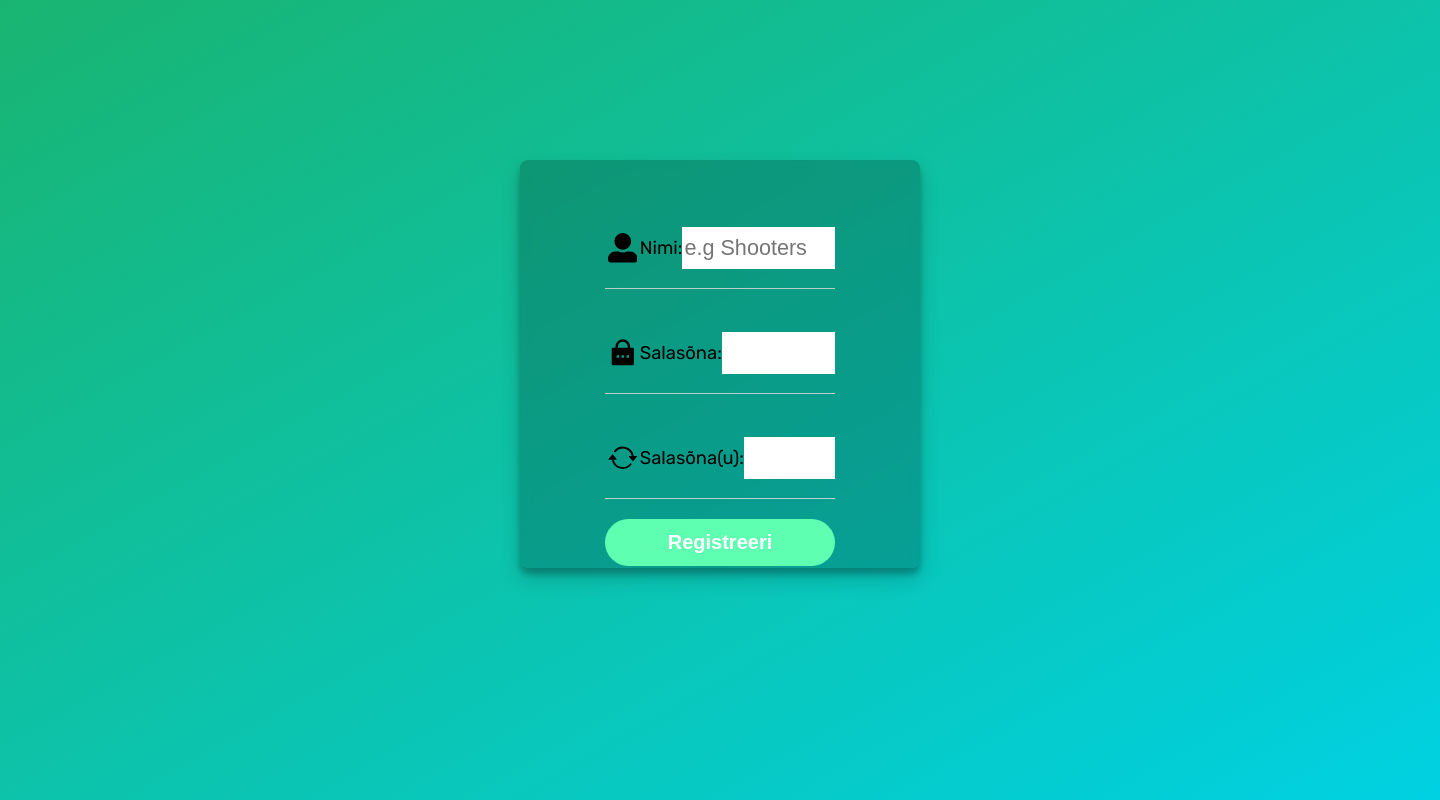
Check that enterprise can register a new account › Checks that register validation errors appear
This screenshot has width=1440, height=800.
Type "Maasikas" into the field named "username" at (759, 248), box [683,227,835,269]
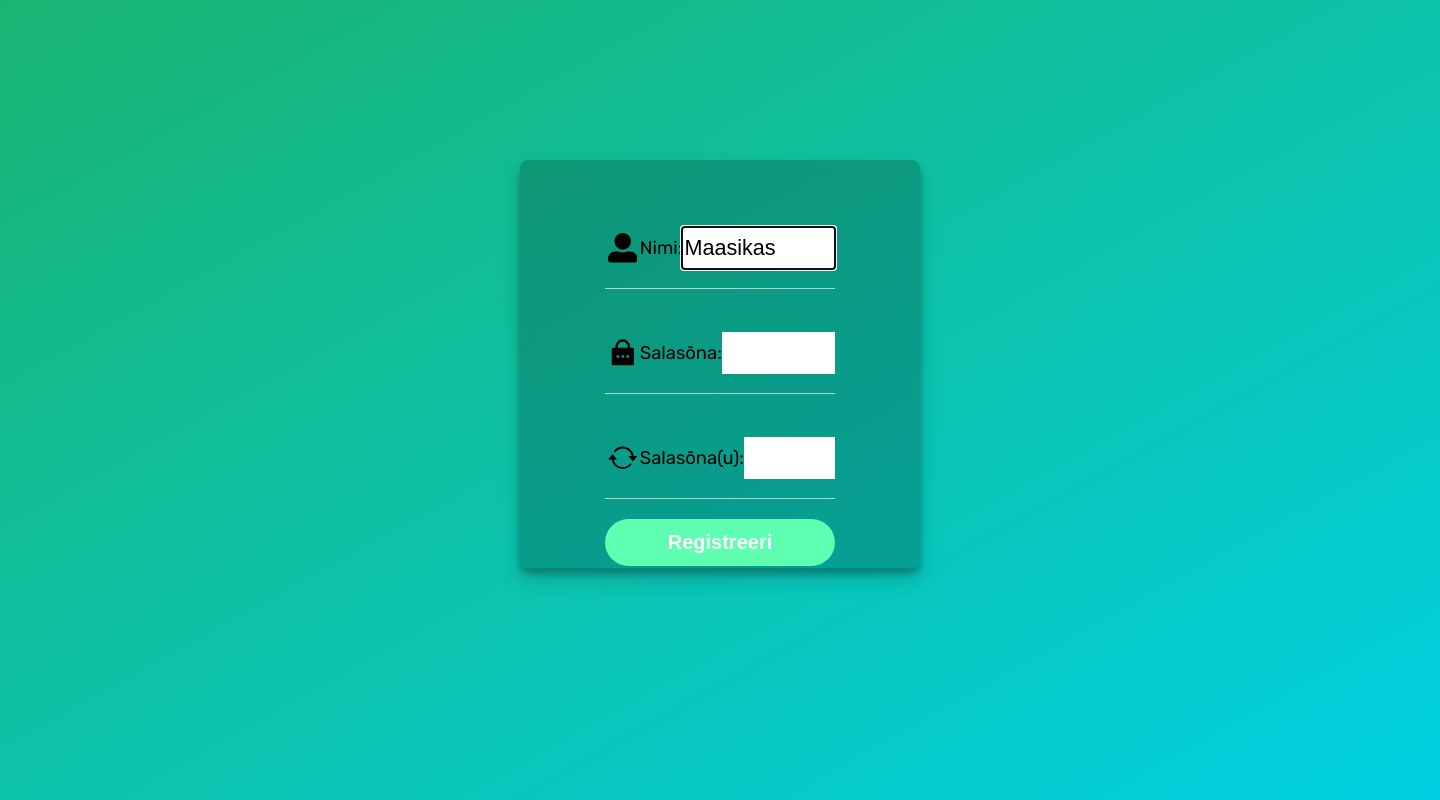
Type "Lollakas!123" into the password field named "password" next to "Salasõna:" at (779, 353), box [722,332,835,374]
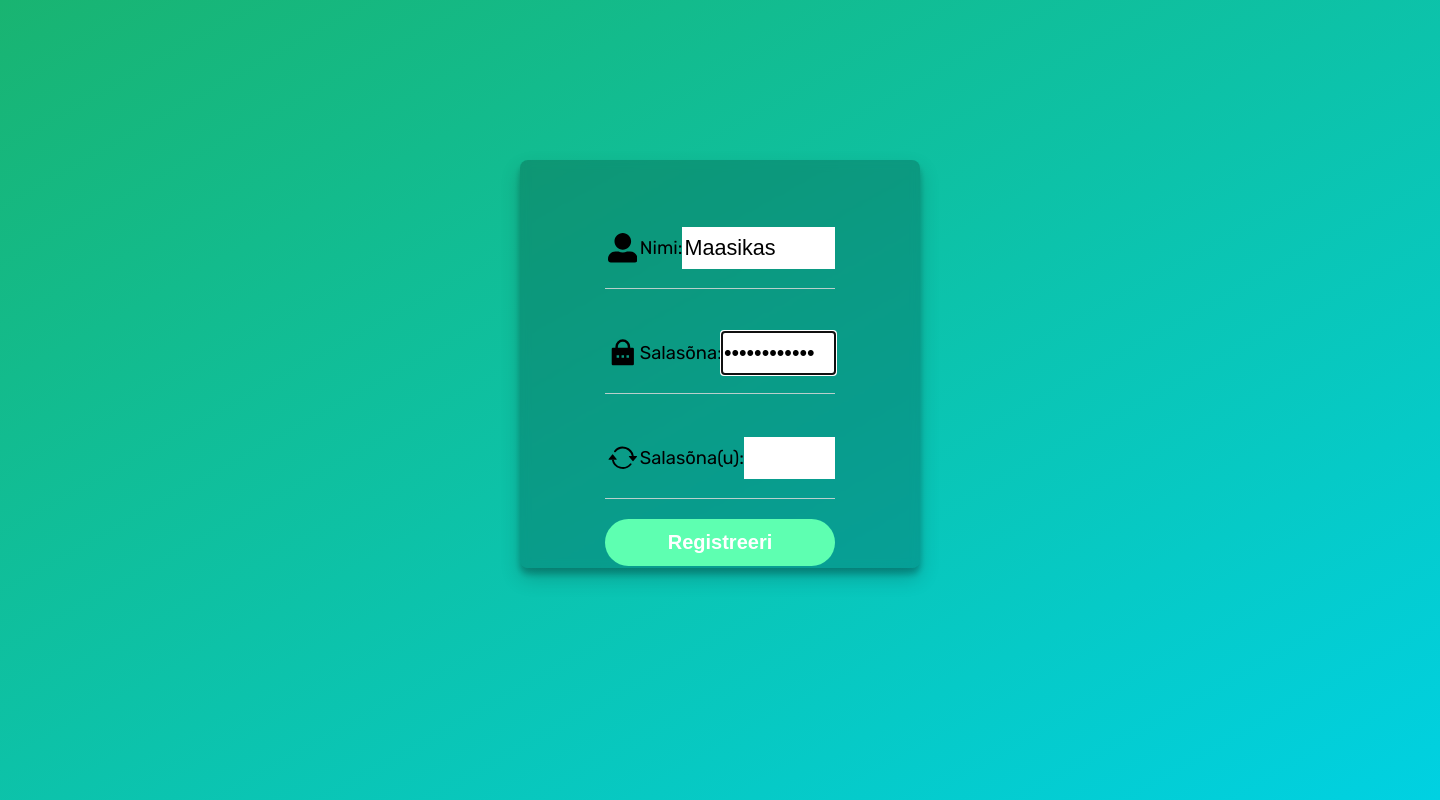
Type "Lollakas" into the password field named "password_repeat" next to "Salasõna(u):" at (790, 458), box [744,437,835,479]
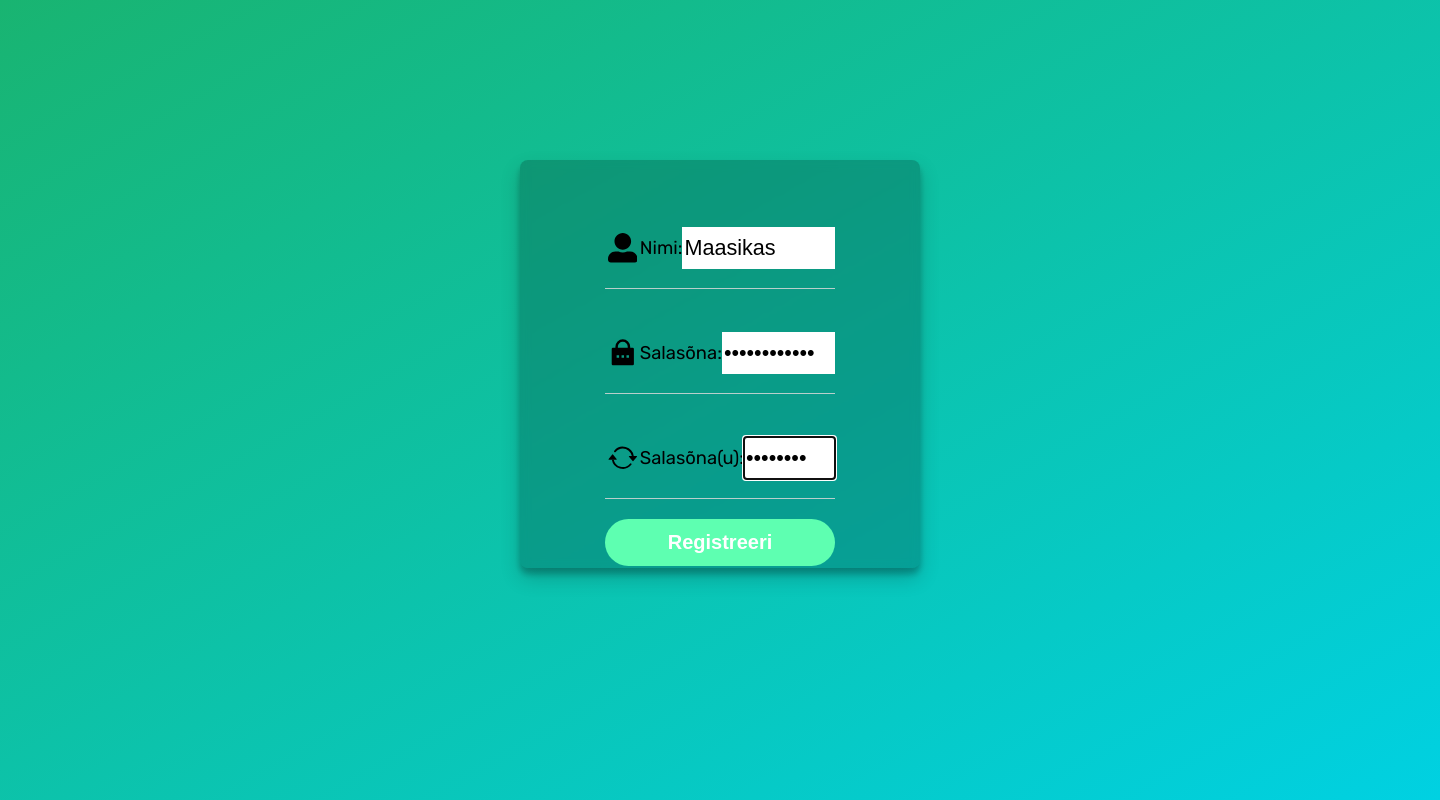
Click the button with id "register" at (720, 543), box [605,519,834,566]
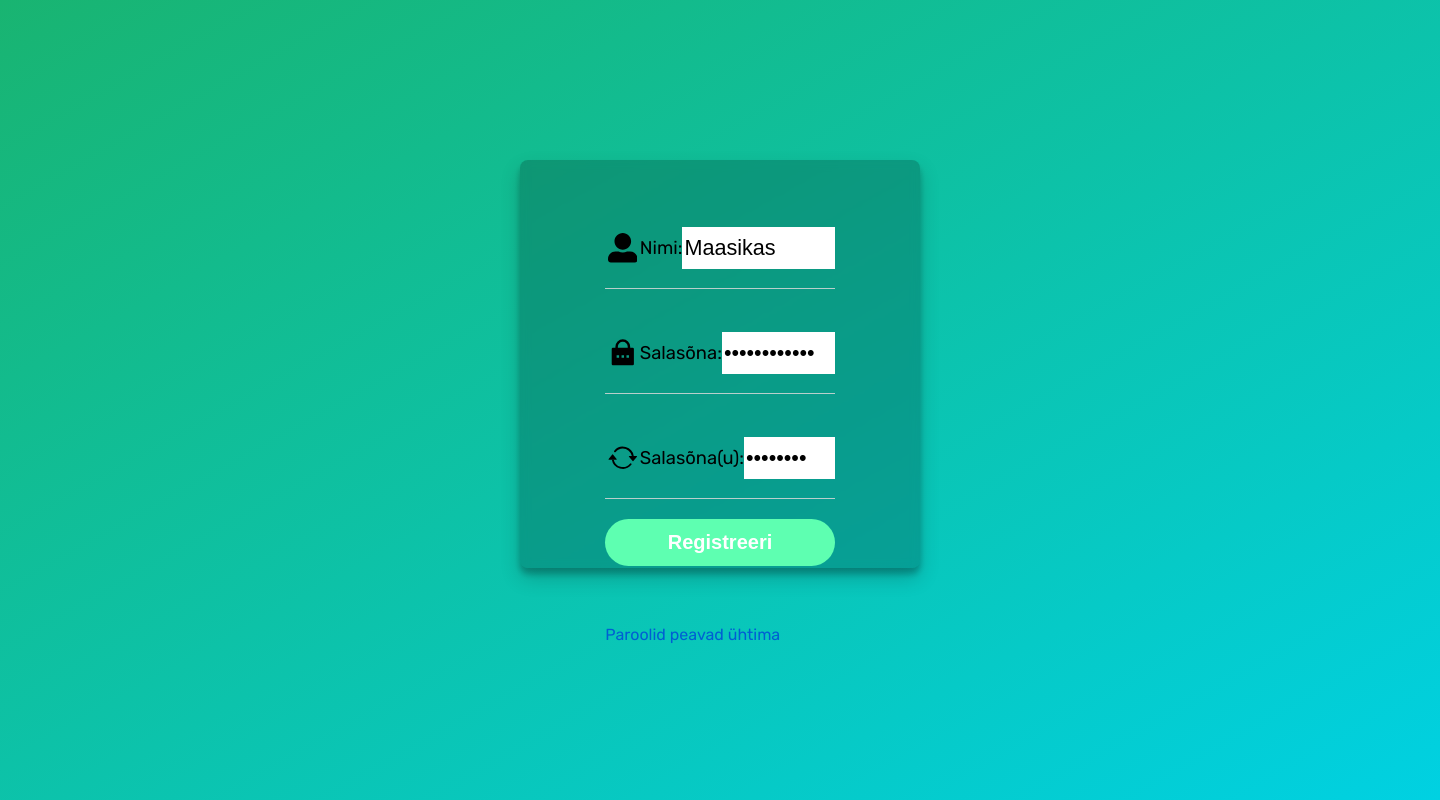
Check: the text with test id "password_repeat" reads "Paroolid peavad ühtima", box [605,625,780,644]
